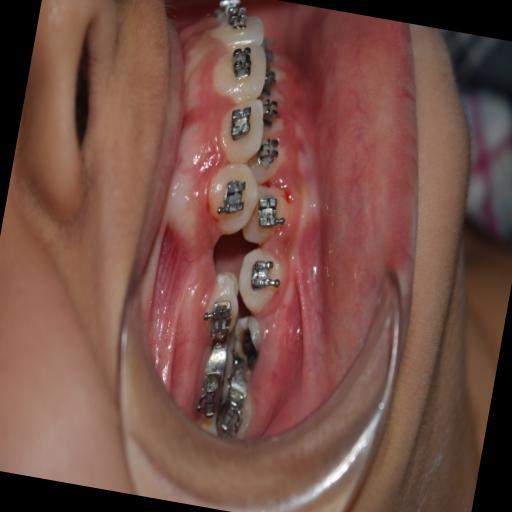correct_brace: (196, 263, 250, 344), (214, 174, 246, 224), (225, 41, 254, 86), (228, 104, 256, 140)
incorrect_brace: (211, 95, 270, 171), (204, 292, 236, 344)
